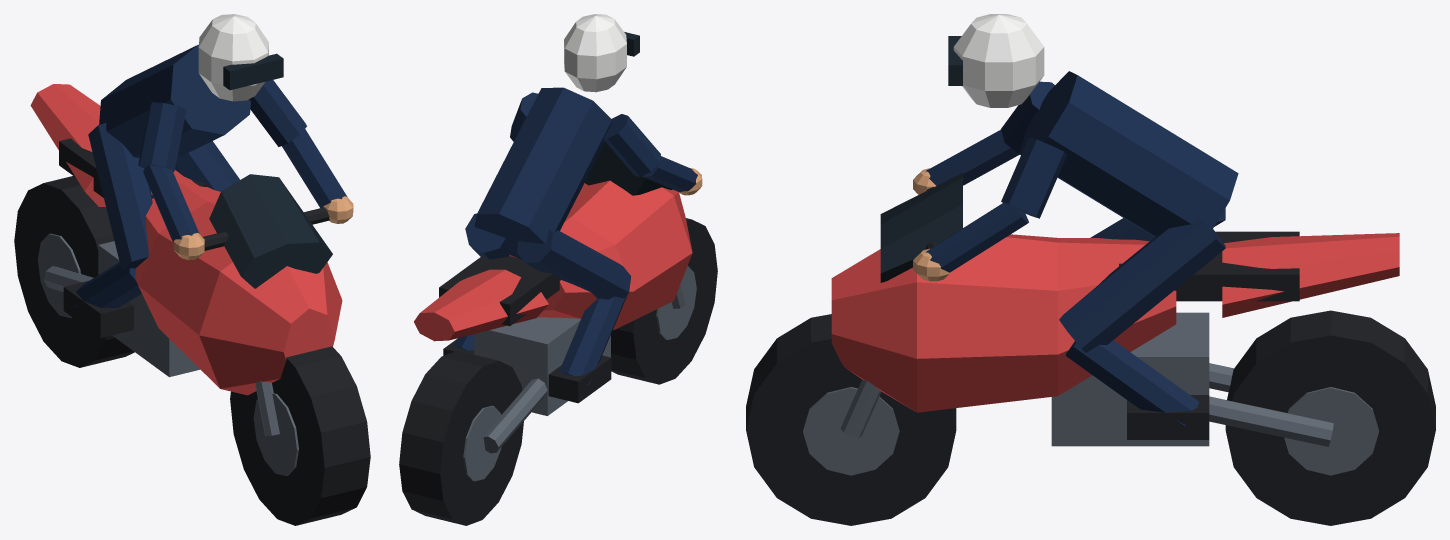
Rendered from moto.glb.
3 renders of one model, left to right at view 1: azimuth 30°, elevation 25°; view 2: azimuth 150°, elevation 25°; view 3: azimuth 270°, elevation 25°, orthographic. The views are drawn at different scales.
Visible parts, largest first — view 1: moto body; view 2: moto body; view 3: moto body.
Part boxes in pixels (x1,y1,x2,y2): moto body: (14,14,370,525); moto body: (399,14,717,525); moto body: (746,14,1435,525).
Size of the model in its own units: 0.6796 by 1.67 by 2.1.
